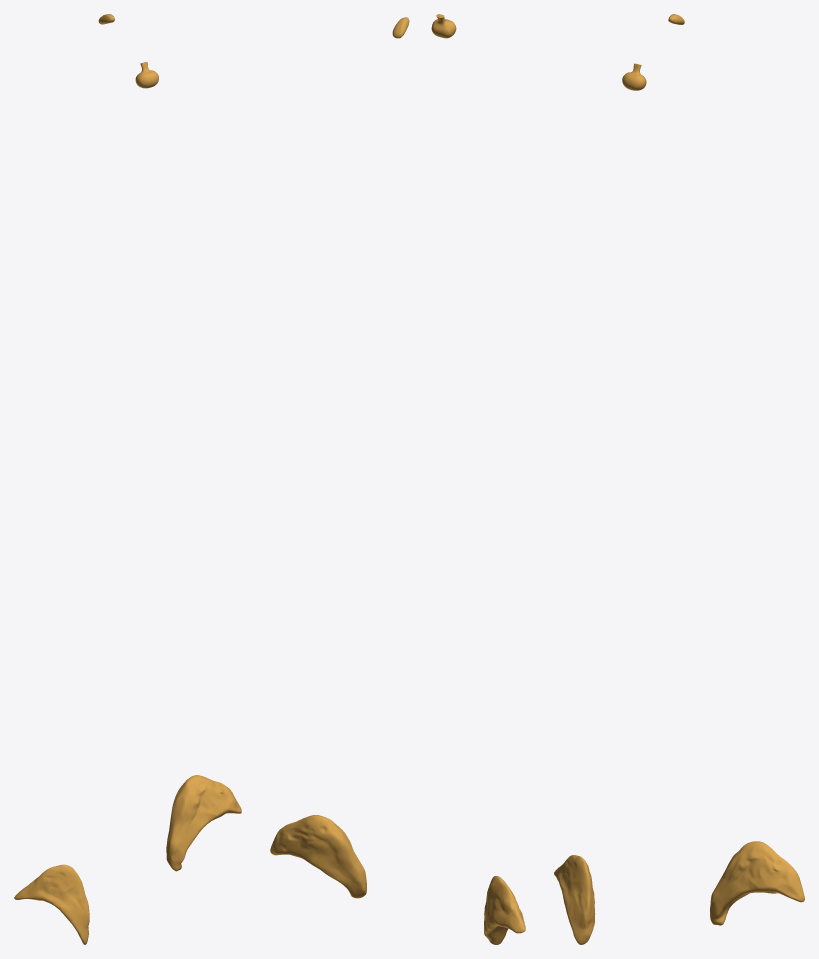
Rendered from endocrino.glb.
The picture shows the model from 3 angles, left to right: view 1: azimuth 30°, elevation 25°; view 2: azimuth 150°, elevation 25°; view 3: azimuth 330°, elevation 25°; orthographic projection. The views are drawn at different scales.
Visible parts, largest first — view 1: FMA15630, FMA15629; view 2: FMA15630, FMA15629; view 3: FMA15630, FMA15629.
Boxes of the visible parts, x1=… form: FMA15630: x1=166, y1=775, x2=241, y2=871; FMA15629: x1=14, y1=864, x2=89, y2=944; FMA15630: x1=270, y1=815, x2=366, y2=898; FMA15629: x1=484, y1=876, x2=525, y2=944; FMA15630: x1=710, y1=841, x2=804, y2=925; FMA15629: x1=554, y1=855, x2=595, y2=944.
Bounding box in the file's own units: 0.138 × 0.5024 × 0.0514.
